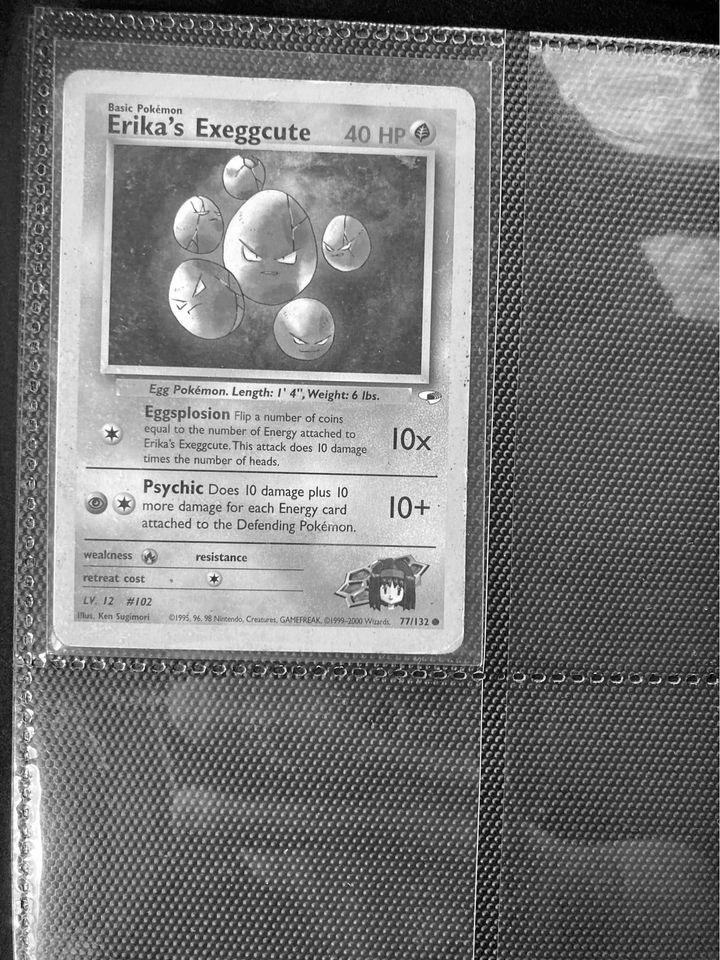card: (49, 66, 478, 658)
